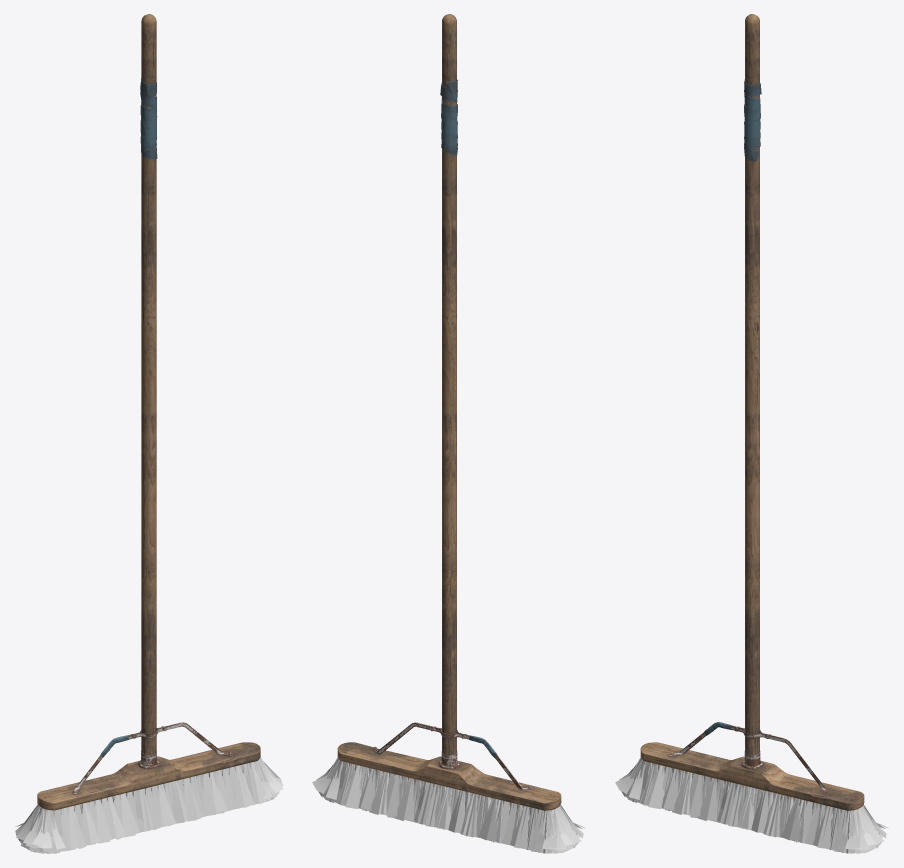
File: wooden_broom.glb
3 renders of one model, left to right at view 1: azimuth 30°, elevation 25°; view 2: azimuth 150°, elevation 25°; view 3: azimuth 330°, elevation 25°, orthographic.
Parts seen in each view (by area): view 1: wooden_broom, wooden_broom_bristles; view 2: wooden_broom, wooden_broom_bristles; view 3: wooden_broom, wooden_broom_bristles.
Boxes of the visible parts, bbox=[...] form: wooden_broom: bbox=[37, 14, 260, 810]; wooden_broom_bristles: bbox=[15, 757, 283, 853]; wooden_broom: bbox=[337, 14, 561, 810]; wooden_broom_bristles: bbox=[312, 757, 585, 853]; wooden_broom: bbox=[640, 14, 864, 810]; wooden_broom_bristles: bbox=[615, 757, 888, 853].
Bounding box in the file's own units: 0.4902 × 1.45 × 0.1125.
Materials: 2 (1 with a texture image).
